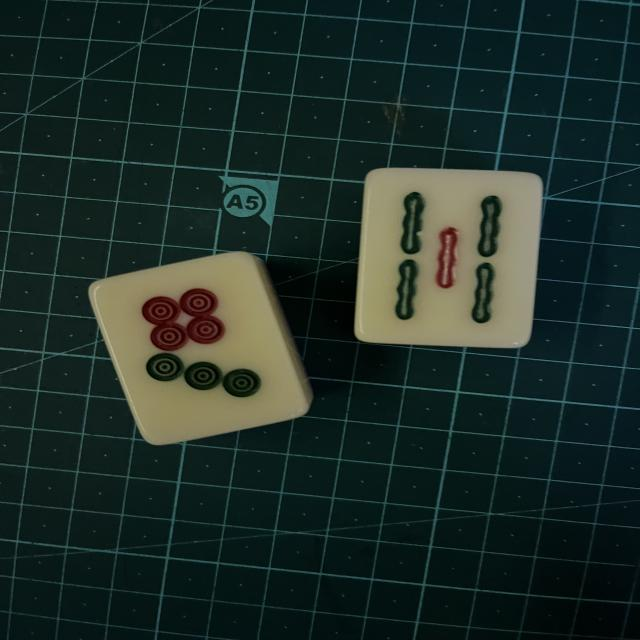s5: (357, 172, 541, 347)
t7: (96, 257, 308, 448)
